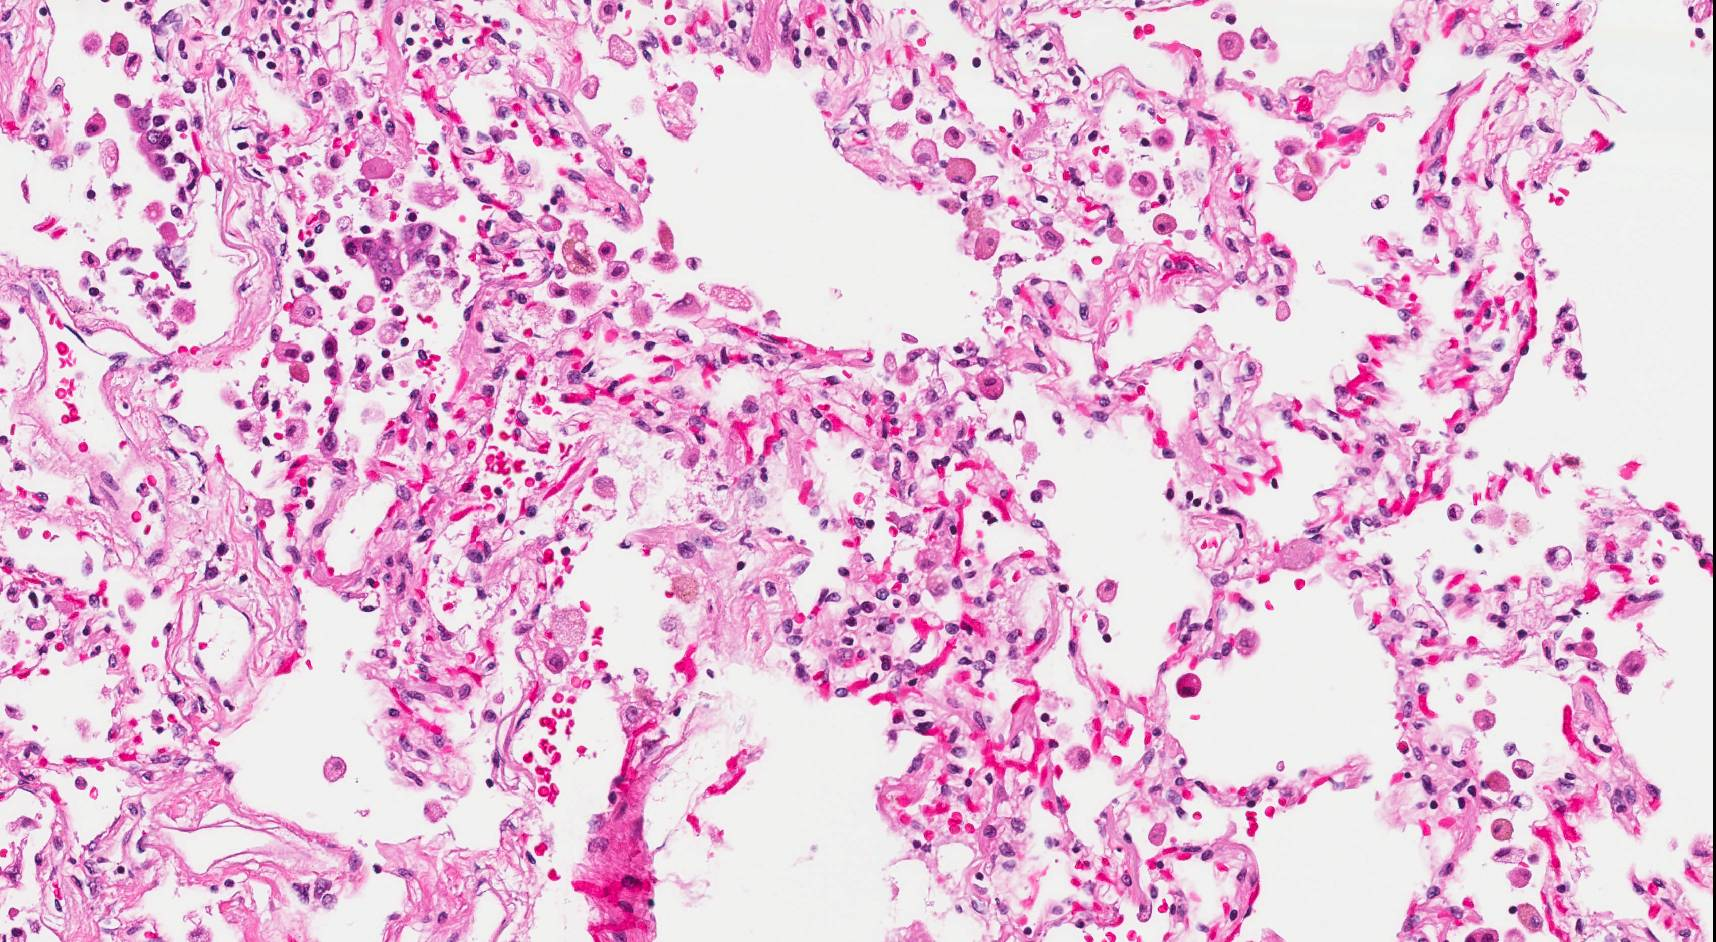stas: (340, 222, 441, 291), (123, 103, 175, 182)
